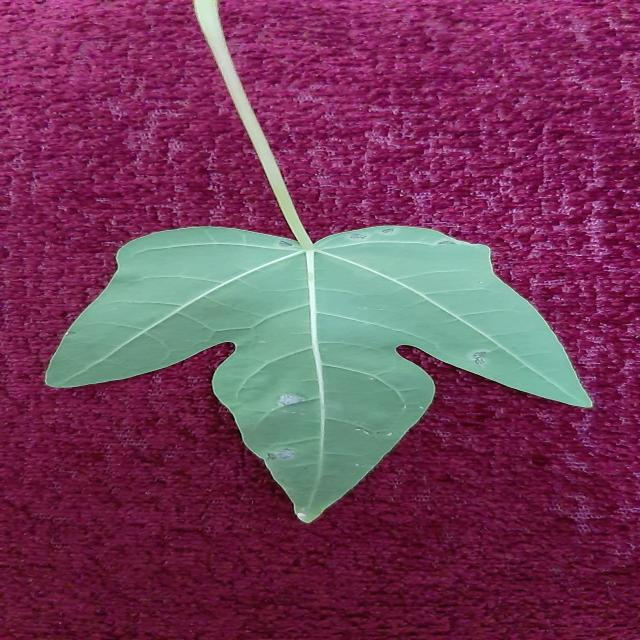papaya: (46, 226, 591, 522)
